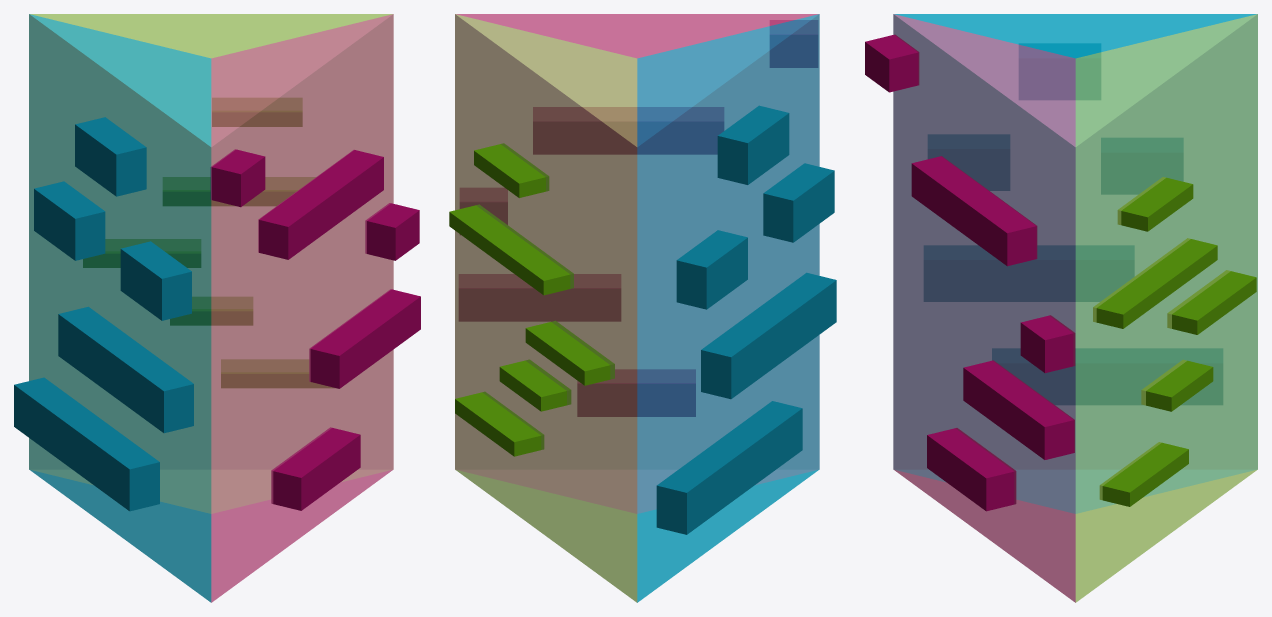
File: demomodel.fbx
The picture shows the model from 3 angles, left to right: view 1: azimuth 30°, elevation 25°; view 2: azimuth 150°, elevation 25°; view 3: azimuth 270°, elevation 25°; orthographic projection.
Visible parts, largest first — view 1: pCylinder1, pCube6, pCube7, pCube14, pCube12, pCube11, pCube8, pCube9, pCube10, pCube5, pCube15, pCube13 (+4 smaller); view 2: pCylinder1, pCube6, pCube14, pCube7, pCube12, pCube11, pCube4, pCube10, pCube9, pCube8, pCube3, pCube1 (+4 smaller); view 3: pCylinder1, pCube7, pCube6, pCube14, pCube12, pCube11, pCube4, pCube10, pCube8, pCube9, pCube3, pCube1 (+4 smaller).
Part boxes in pixels (<box>): pCylinder1: <box>29,14,393,602</box>; pCube6: <box>14,377,159,511</box>; pCube7: <box>58,306,193,433</box>; pCube14: <box>258,150,383,259</box>; pCube12: <box>309,289,420,388</box>; pCube11: <box>271,427,360,510</box>; pCube8: <box>34,181,105,260</box>; pCube9: <box>120,241,191,320</box>; pCube10: <box>75,117,146,196</box>; pCube5: <box>212,98,302,126</box>; pCube15: <box>211,149,265,207</box>; pCube13: <box>365,203,419,260</box>; pCylinder1: <box>455,14,819,602</box>; pCube6: <box>656,401,802,534</box>; pCube14: <box>533,107,723,154</box>; pCube7: <box>701,272,836,399</box>; pCube12: <box>459,274,620,321</box>; pCube11: <box>577,370,695,416</box>; pCube4: <box>449,204,573,295</box>; pCube10: <box>717,105,789,184</box>; pCube9: <box>763,163,834,242</box>; pCube8: <box>676,230,747,309</box>; pCube3: <box>525,321,614,385</box>; pCube1: <box>455,392,543,456</box>; pCylinder1: <box>893,14,1257,602</box>; pCube7: <box>924,246,1133,301</box>; pCube6: <box>992,349,1222,404</box>; pCube14: <box>911,156,1036,266</box>; pCube12: <box>963,360,1074,459</box>; pCube11: <box>927,428,1015,511</box>; pCube4: <box>1093,238,1217,328</box>; pCube10: <box>1019,44,1100,99</box>; pCube8: <box>1101,138,1182,193</box>; pCube9: <box>928,135,1009,190</box>; pCube3: <box>1167,270,1256,334</box>; pCube1: <box>1100,442,1188,506</box>.
Bounding box in the file's own units: 16.7 × 22.88 × 17.89.
